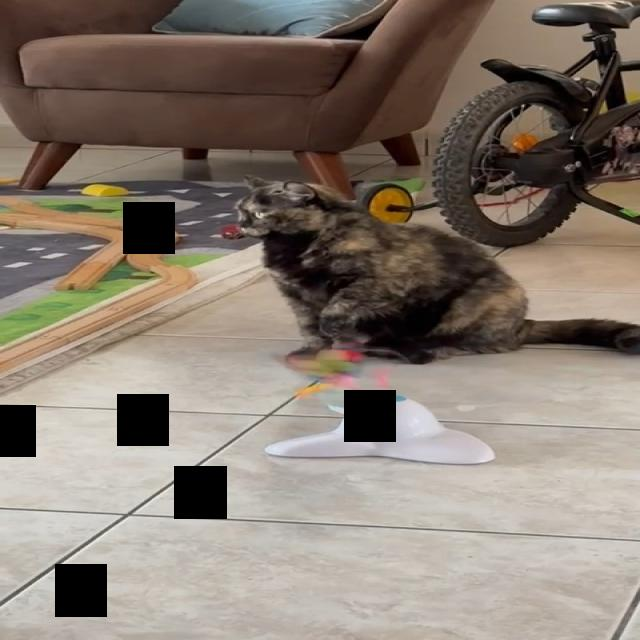authorized: (225, 173, 639, 364)
